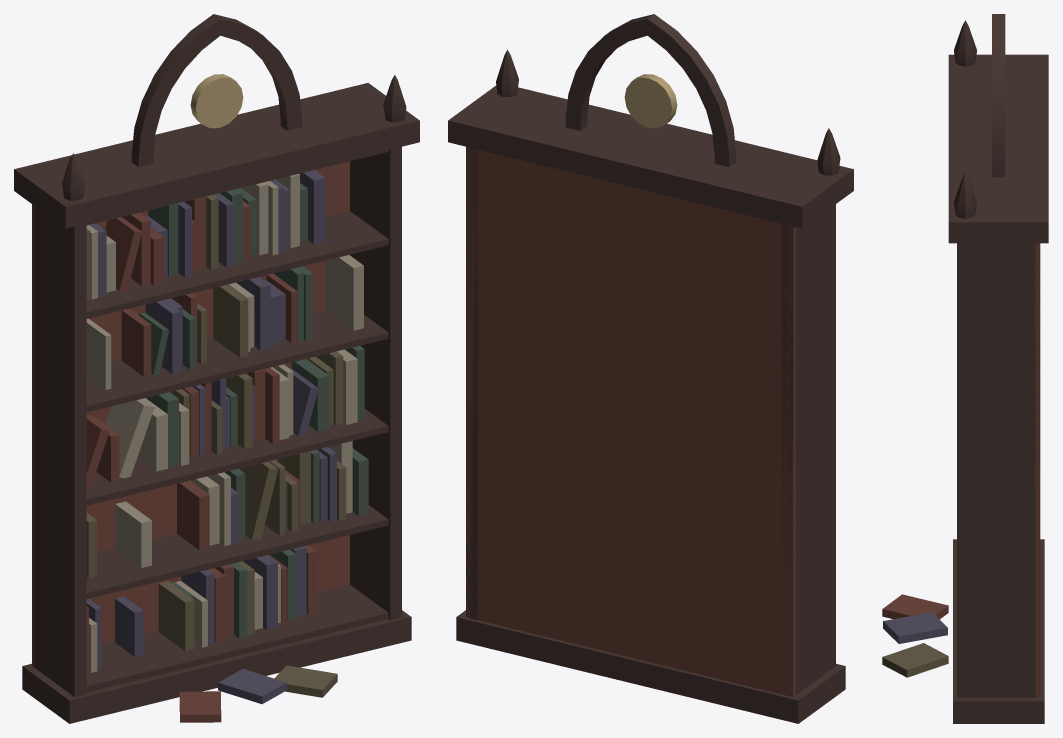
File: bookshelf.glb
3 views of the same model, side by side, from view 1: azimuth 30°, elevation 25°; view 2: azimuth 150°, elevation 25°; view 3: azimuth 270°, elevation 25° (orthographic). The views are drawn at different scales.
Visible parts, largest first — view 1: Bookshelf; view 2: Bookshelf; view 3: Bookshelf.
Boxes of the visible parts, x1,y1,x2,y2 form: Bookshelf: (14,14,419,723); Bookshelf: (448,14,853,723); Bookshelf: (882,14,1048,723).
Size of the model in its own units: 2.38 by 4.16 by 0.9999.
